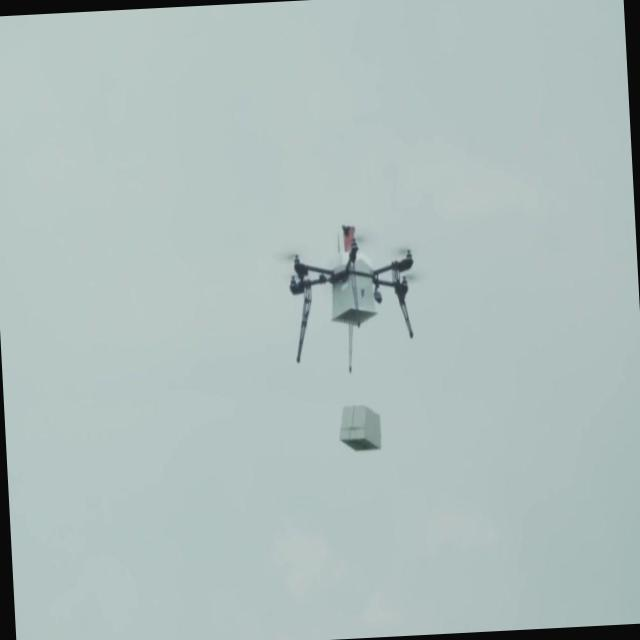drone: (278, 214, 425, 380)
